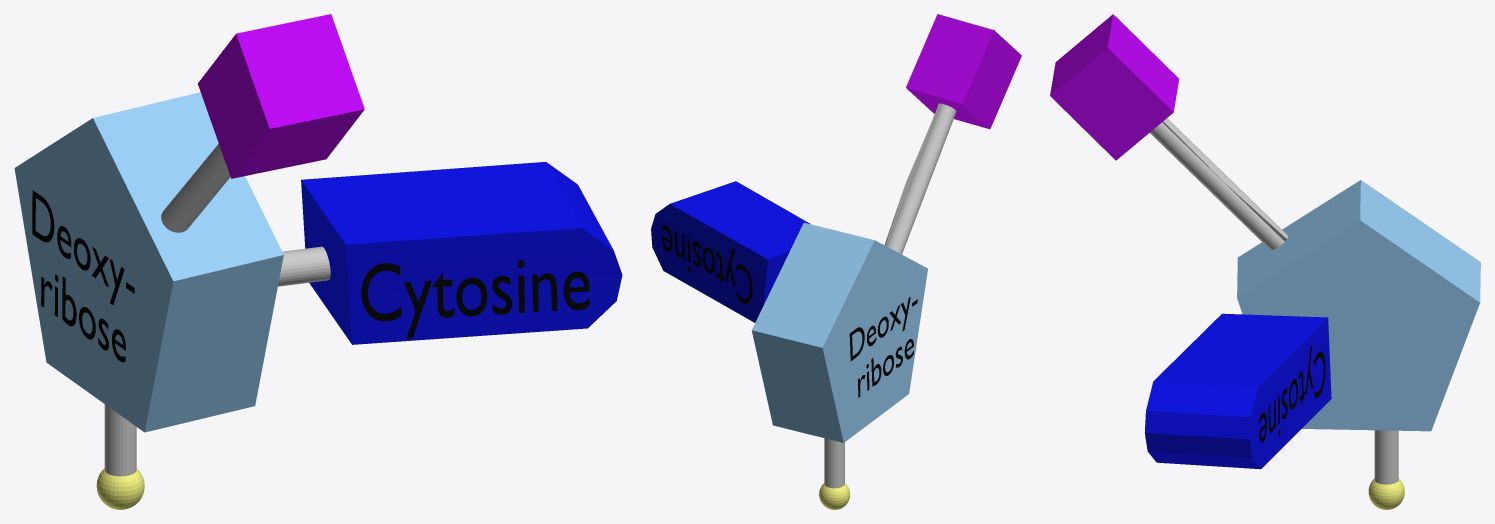
File: cytosine.glb
3 views of the same model, side by side, from view 1: azimuth 30°, elevation 25°; view 2: azimuth 150°, elevation 25°; view 3: azimuth 270°, elevation 25° (orthographic). The views are drawn at different scales.
Visible parts, largest first — view 1: Deoxyribose.002, Connector_Ribose_Base.004, Phosphate.004, CytosineText, Cytosine, Text.005; view 2: Deoxyribose.002, Connector_Ribose_Base.004, Phosphate.004, Cytosine, Text.005, CytosineText.001; view 3: Deoxyribose.002, Connector_Ribose_Base.004, Phosphate.004, Cytosine, CytosineText.001.
Part boxes in pixels (left/top/right/bottom): Deoxyribose.002: left=14, top=92, right=283, bottom=432; Connector_Ribose_Base.004: left=278, top=162, right=622, bottom=344; Phosphate.004: left=161, top=14, right=364, bottom=232; CytosineText: left=361, top=259, right=589, bottom=338; Cytosine: left=96, top=404, right=144, bottom=509; Text.005: left=32, top=190, right=134, bottom=362; Deoxyribose.002: left=751, top=222, right=927, bottom=442; Connector_Ribose_Base.004: left=651, top=181, right=810, bottom=322; Phosphate.004: left=884, top=14, right=1021, bottom=254; Cytosine: left=819, top=438, right=850, bottom=509; Text.005: left=849, top=296, right=917, bottom=397; CytosineText.001: left=662, top=225, right=752, bottom=303; Deoxyribose.002: left=1237, top=180, right=1480, bottom=431; Connector_Ribose_Base.004: left=1144, top=313, right=1331, bottom=469; Phosphate.004: left=1050, top=14, right=1287, bottom=249; Cytosine: left=1368, top=430, right=1404, bottom=509; CytosineText.001: left=1259, top=346, right=1325, bottom=442.
Size of the model in its own units: 1.21 by 1.62 by 1.35.
